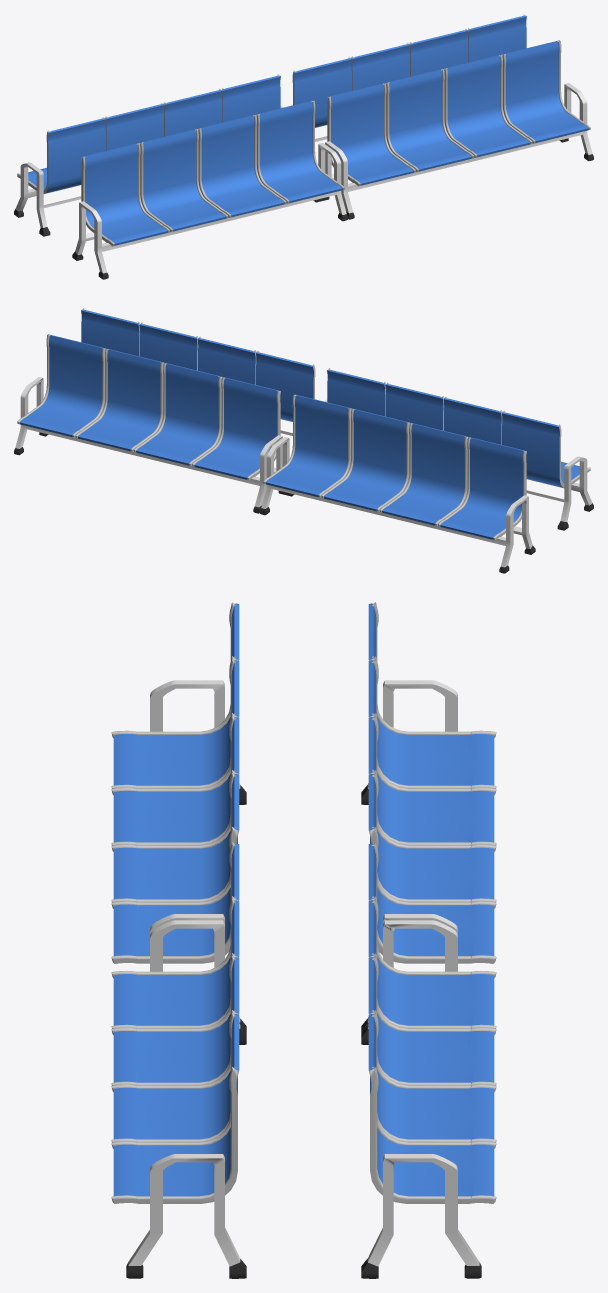
Rendered from seat.glb.
The picture shows the model from 3 angles, top to bottom: view 1: azimuth 30°, elevation 25°; view 2: azimuth 150°, elevation 25°; view 3: azimuth 270°, elevation 25°; orthographic projection. The views are drawn at different scales.
Parts seen in each view (by area): view 1: Cube; view 2: Cube; view 3: Cube.
Part boxes in pixels (x1,y1,x2,y2): Cube: (14, 14, 593, 279); Cube: (14, 308, 593, 573); Cube: (111, 602, 496, 1278).
Size of the model in its own units: 5.62 by 1.12 by 1.91.
